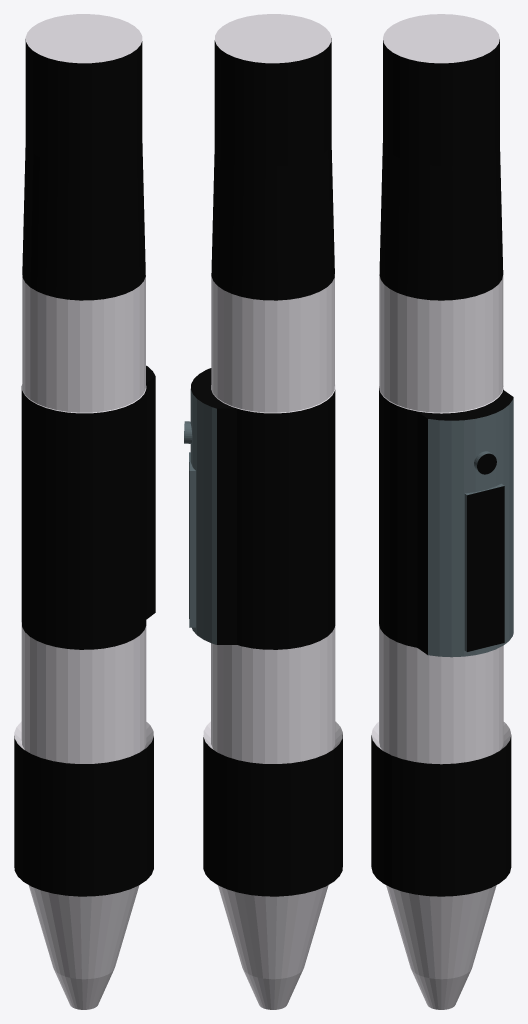
The model's file is upDatedPenColors.fbx.
The picture shows the model from 3 angles, left to right: view 1: azimuth 30°, elevation 25°; view 2: azimuth 150°, elevation 25°; view 3: azimuth 270°, elevation 25°; orthographic projection.
Parts seen in each view (by area): view 1: Cylinder; view 2: Cylinder; view 3: Cylinder.
Boxes of the visible parts, <box> form: Cylinder: <box>14,14,155,1009</box>; Cylinder: <box>184,14,342,1009</box>; Cylinder: <box>371,14,513,1009</box>.
Bounding box in the file's own units: 1357 × 9486 × 1266.
